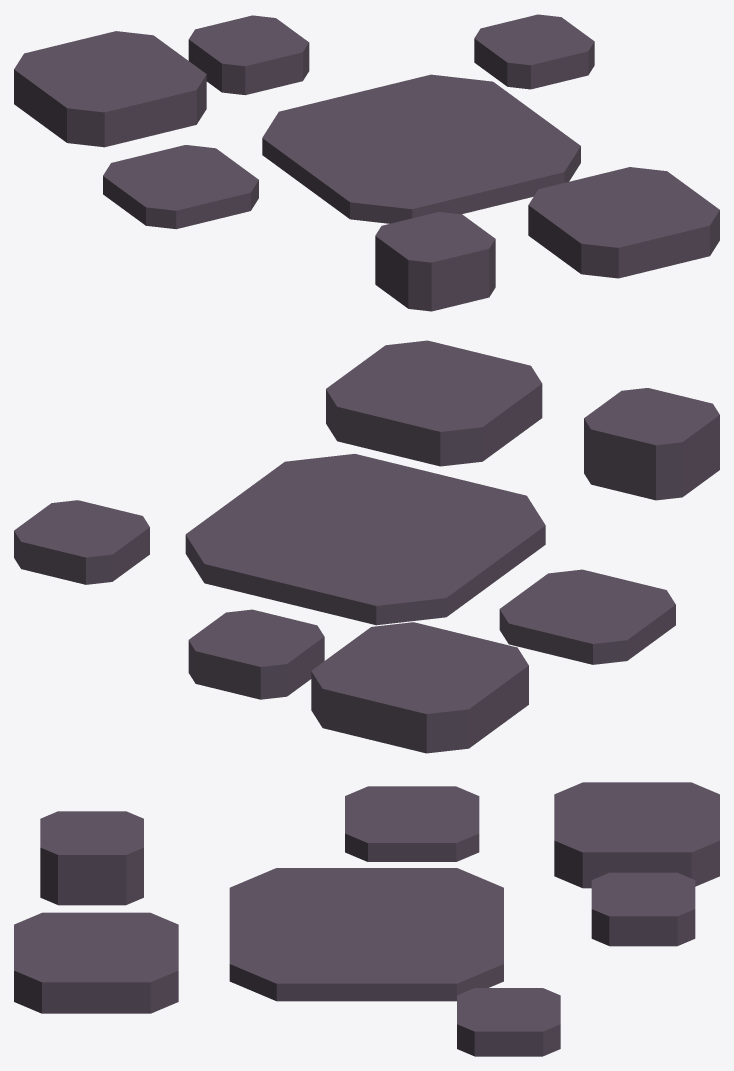
File: piedras.fbx
3 renders of one model, top to bottom at view 1: azimuth 30°, elevation 25°; view 2: azimuth 150°, elevation 25°; view 3: azimuth 270°, elevation 25°, orthographic. The views are drawn at different scales.
Parts seen in each view (by area): view 1: Cube.004; view 2: Cube.004; view 3: Cube.004.
Boxes of the visible parts, bbox=[...] form: Cube.004: bbox=[14, 14, 719, 311]; Cube.004: bbox=[14, 340, 719, 753]; Cube.004: bbox=[14, 782, 719, 1056].
Size of the model in its own units: 199 by 18.58 by 237.
Materials: 1 (1 with a texture image).
